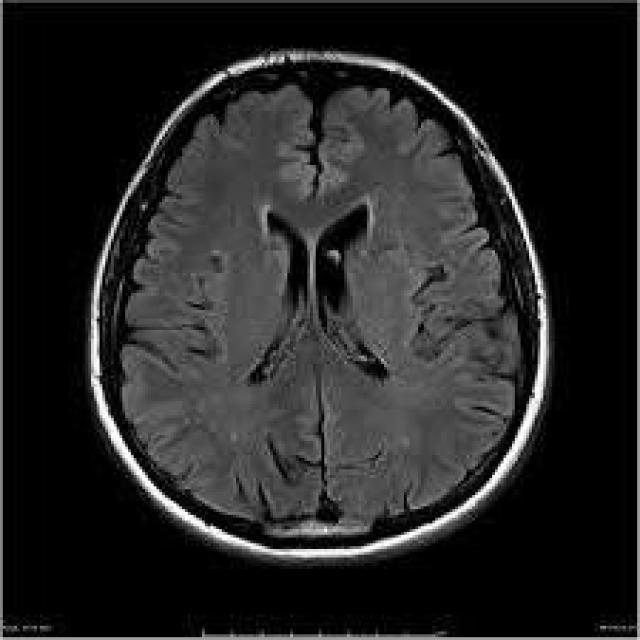notumor: (85, 51, 552, 563)
